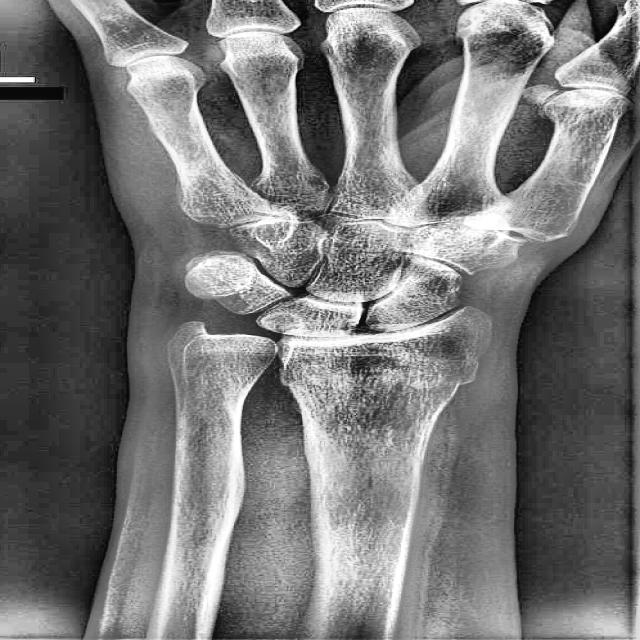fracture: (276, 362, 478, 395)
